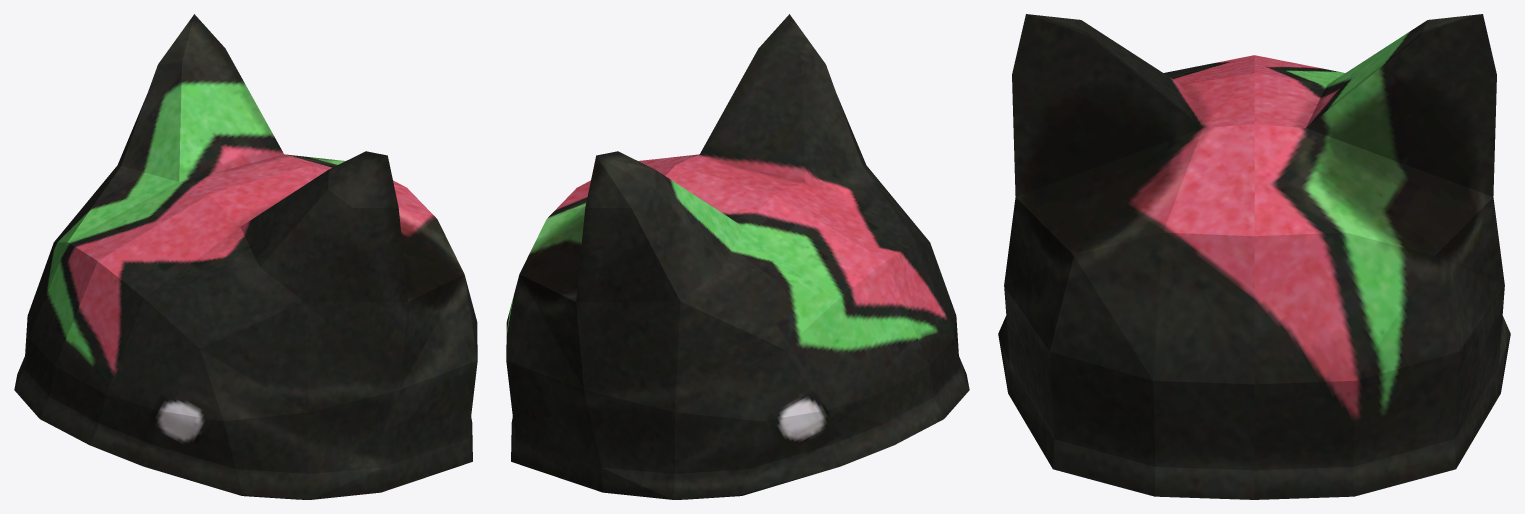
The model's file is Rabbit_superStarHood.obj.
The picture shows the model from 3 angles, left to right: view 1: azimuth 30°, elevation 25°; view 2: azimuth 150°, elevation 25°; view 3: azimuth 270°, elevation 25°; orthographic projection. The views are drawn at different scales.
Parts seen in each view (by area): view 1: Rabbit_superStarHood_tri; view 2: Rabbit_superStarHood_tri; view 3: Rabbit_superStarHood_tri.
Boxes of the visible parts, bbox=[...] form: Rabbit_superStarHood_tri: bbox=[14, 14, 477, 499]; Rabbit_superStarHood_tri: bbox=[506, 14, 969, 499]; Rabbit_superStarHood_tri: bbox=[998, 14, 1510, 499].
Size of the model in its own units: 0.2861 by 0.2397 by 0.2689.
Materials: 1 (1 with a texture image).
